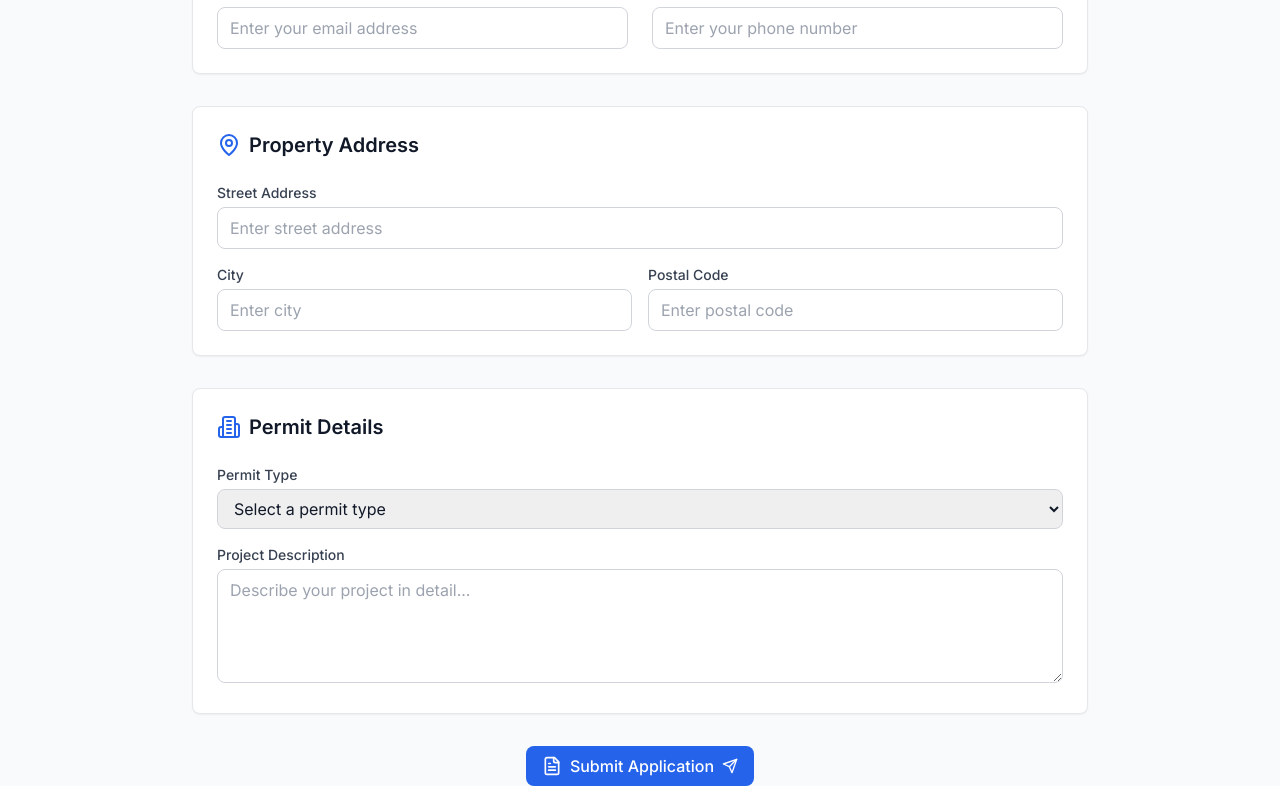
it: PermitSubmissionPage › Form Validation › should show errors for missing required fields
(page scrolled)
Note: Try to submit without filling required fields
Click the button "Submit Application" at (640, 766), box [526, 746, 754, 785]
(page scrolled)
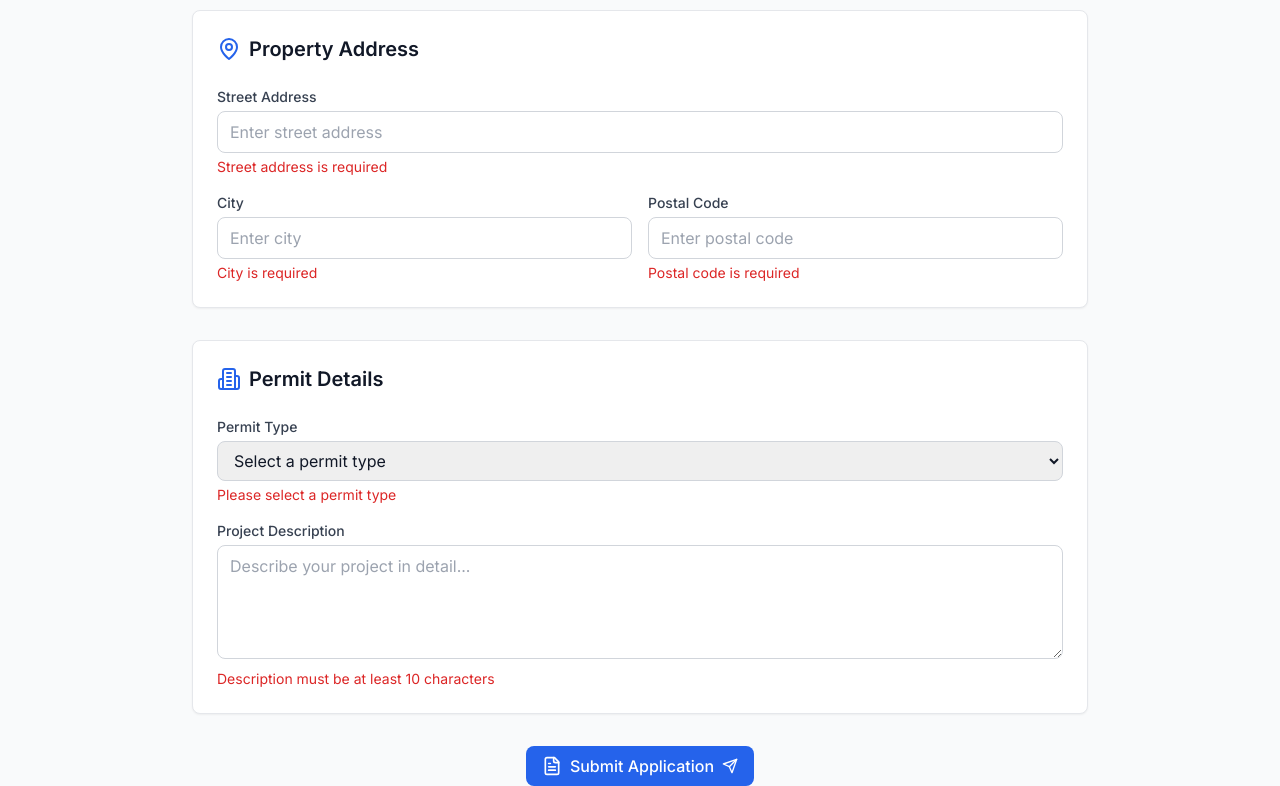
Expected: the text "Street address is required" is shown, [217, 158, 387, 175]
Expected: the text "City is required" is shown, [217, 264, 317, 281]
Expected: the text "Postal code is required" is shown, [648, 264, 800, 281]
